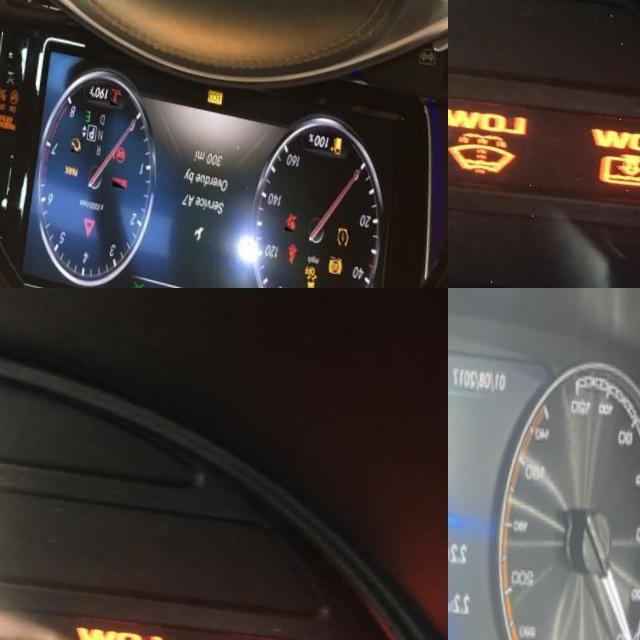Washer Fluid: (451, 120, 524, 174)
